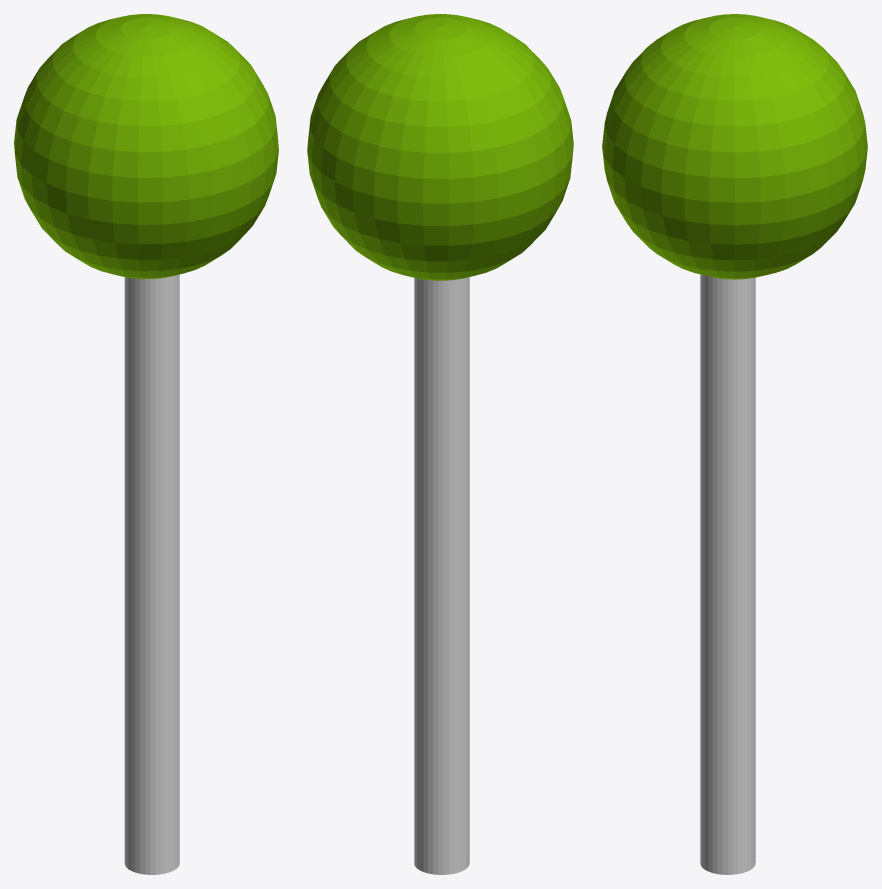
Rendered from Pin.gltf.
3 renders of one model, left to right at view 1: azimuth 30°, elevation 25°; view 2: azimuth 150°, elevation 25°; view 3: azimuth 270°, elevation 25°, orthographic.
Parts seen in each view (by area): view 1: Sphere, Cylinder; view 2: Sphere, Cylinder; view 3: Sphere, Cylinder.
Part boxes in pixels (left/top/right/bottom): Sphere: left=14, top=14, right=278, bottom=279; Cylinder: left=124, top=274, right=179, bottom=874; Sphere: left=307, top=14, right=573, bottom=280; Cylinder: left=414, top=277, right=469, bottom=874; Sphere: left=602, top=14, right=867, bottom=279; Cylinder: left=700, top=274, right=755, bottom=874.
Size of the model in its own units: 1.13 by 3.93 by 1.13.
